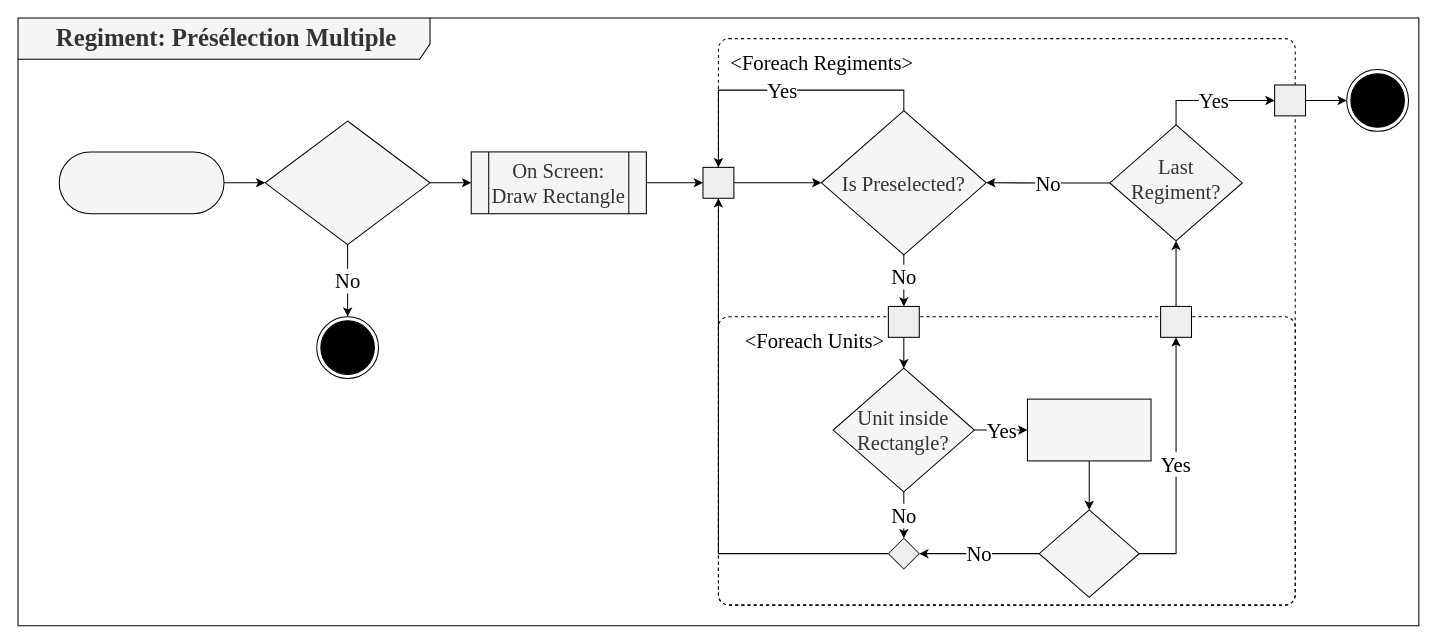
Image size: 1437x644. Some labels were removed from this diagram. Here are the shapes that lost their labels. From the top down, the centre of each, then its label:
At (141,182): "Left Mouse Pressed".
At (347,182): "Mouse Move?".
At (1088,429): "Preselect Regiment".
At (1088,553): "Last Unit?".
